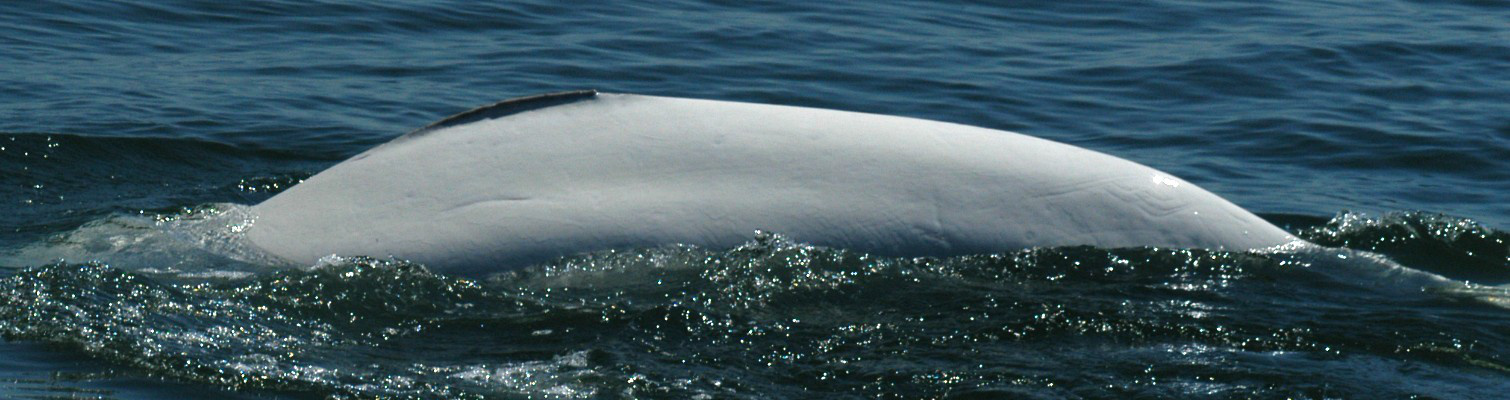fin: (363, 83, 637, 158)
